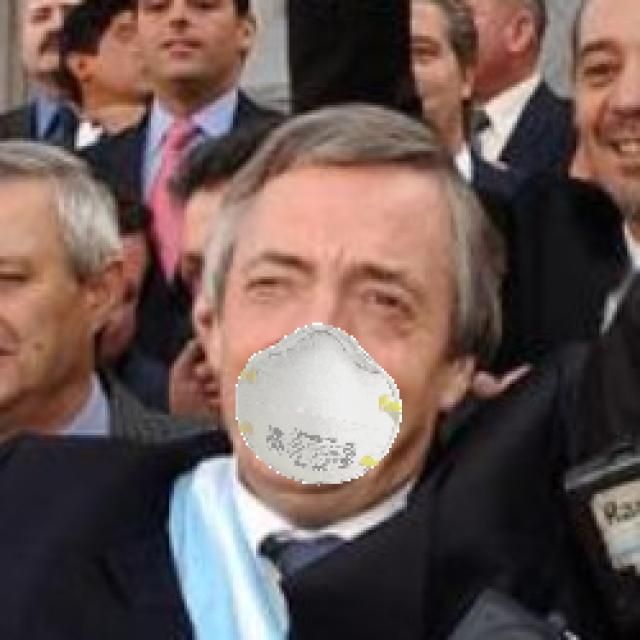mask: (256, 353, 392, 481)
